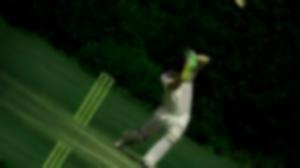batsman: (147, 34, 218, 166)
